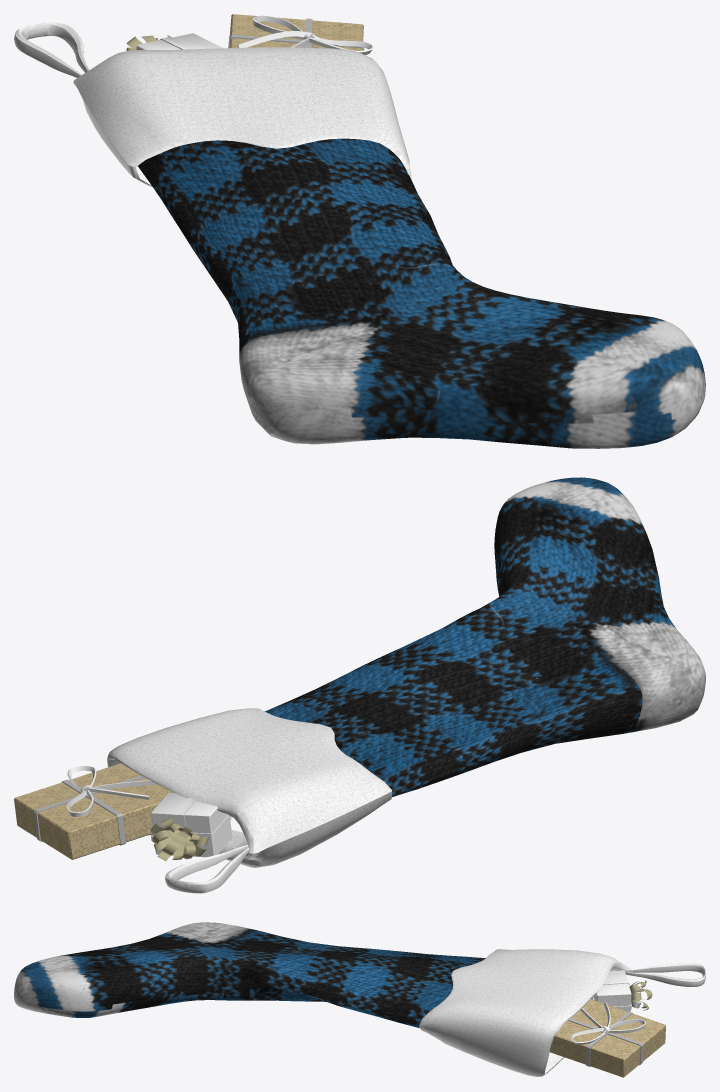
The model's file is checker_stocking.gltf.
3 views of the same model, one above another, from view 1: azimuth 30°, elevation 25°; view 2: azimuth 150°, elevation 25°; view 3: azimuth 270°, elevation 25° (orthographic). The views are drawn at different scales.
Parts seen in each view (by area): view 1: sock03 (×2); view 2: sock03 (×2); view 3: sock03 (×2).
Part boxes in pixels (box(x1,y1,x2,y2)): sock03 (×2): box(14, 14, 705, 448); sock03 (×2): box(14, 477, 705, 893); sock03 (×2): box(14, 922, 705, 1077).
Bounding box in the file's own units: 0.2369 × 0.0643 × 0.5141.
Materials: 2 (2 with a texture image).
